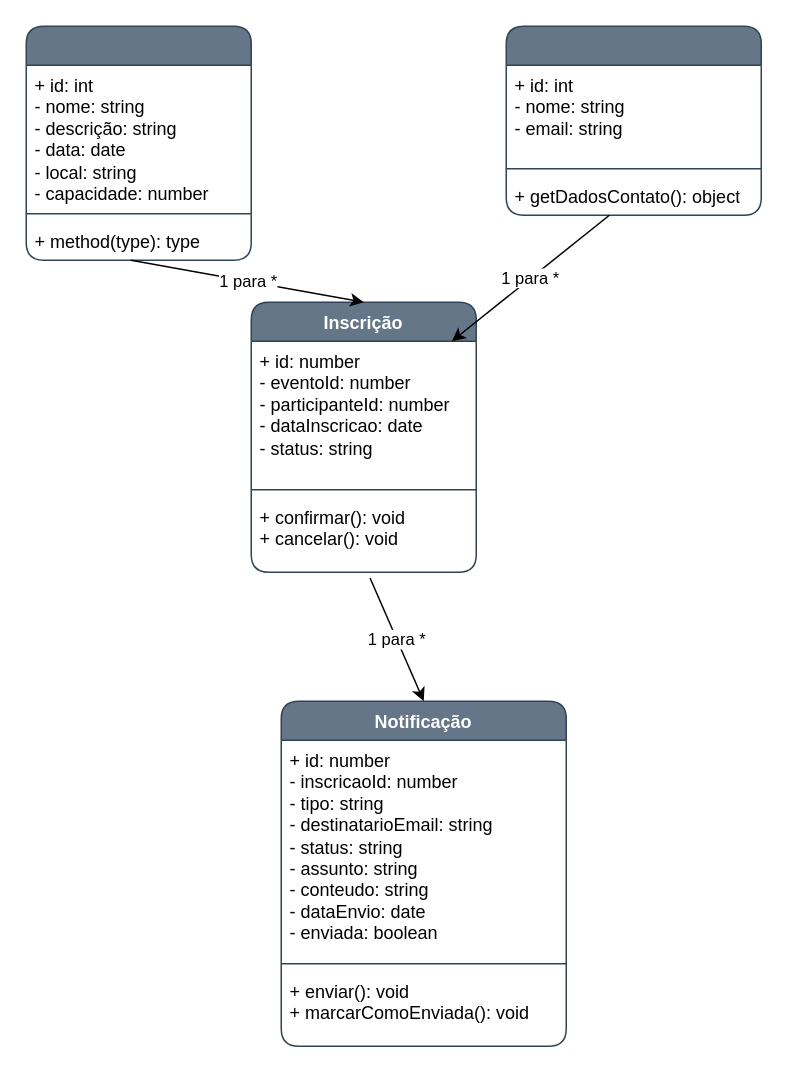
Some shapes in this 788 by 1077 pixel diagram are drawn without their labels. Each missing label, with the box of its shape:
Evento: (25, 25, 251, 260)
Participante: (505, 25, 761, 215)
